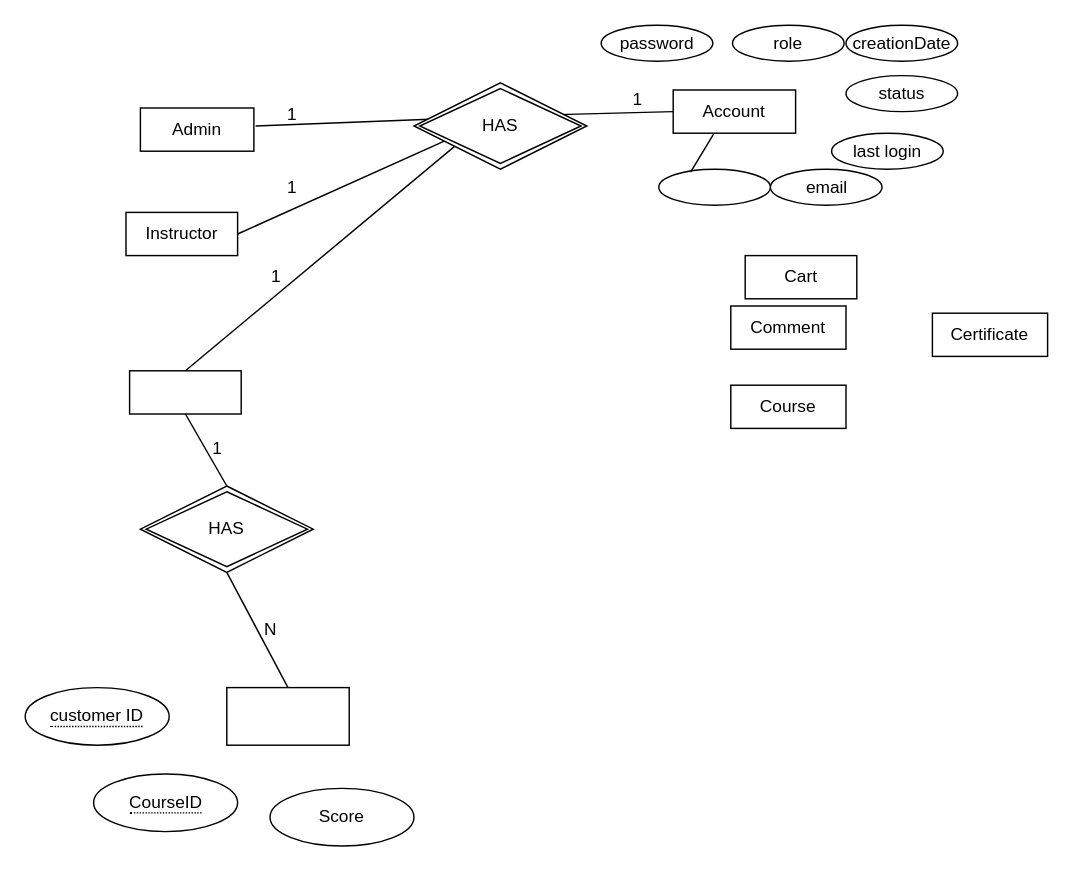
Some shapes in this 1073 by 871 pixel diagram are drawn without their labels. The centre of each missing label's shape, as x and y in pixels:
"account ID" goes at (x=713, y=186).
"Rating" goes at (x=287, y=715).
"Student" goes at (x=184, y=391).
